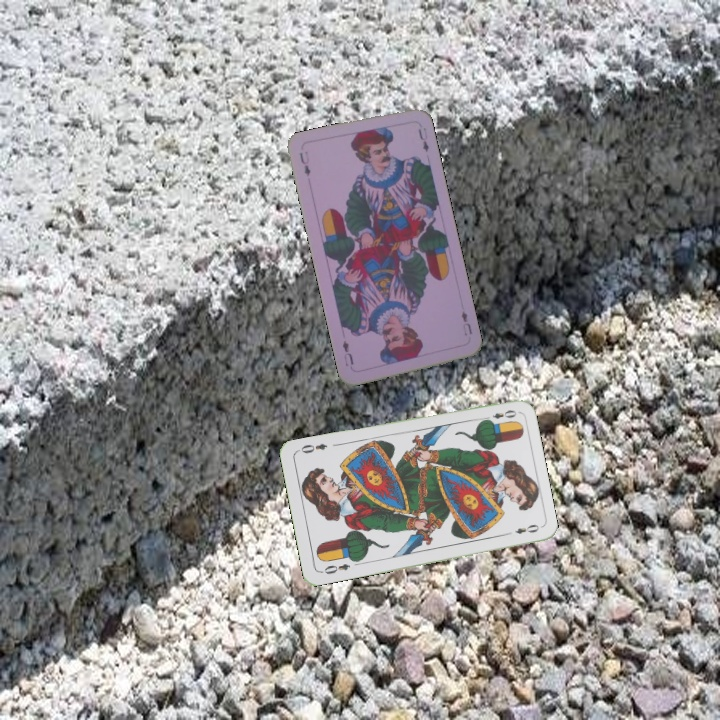EO: (479, 406, 519, 424), (317, 560, 353, 577)
EU: (295, 147, 313, 179), (457, 307, 475, 338)
